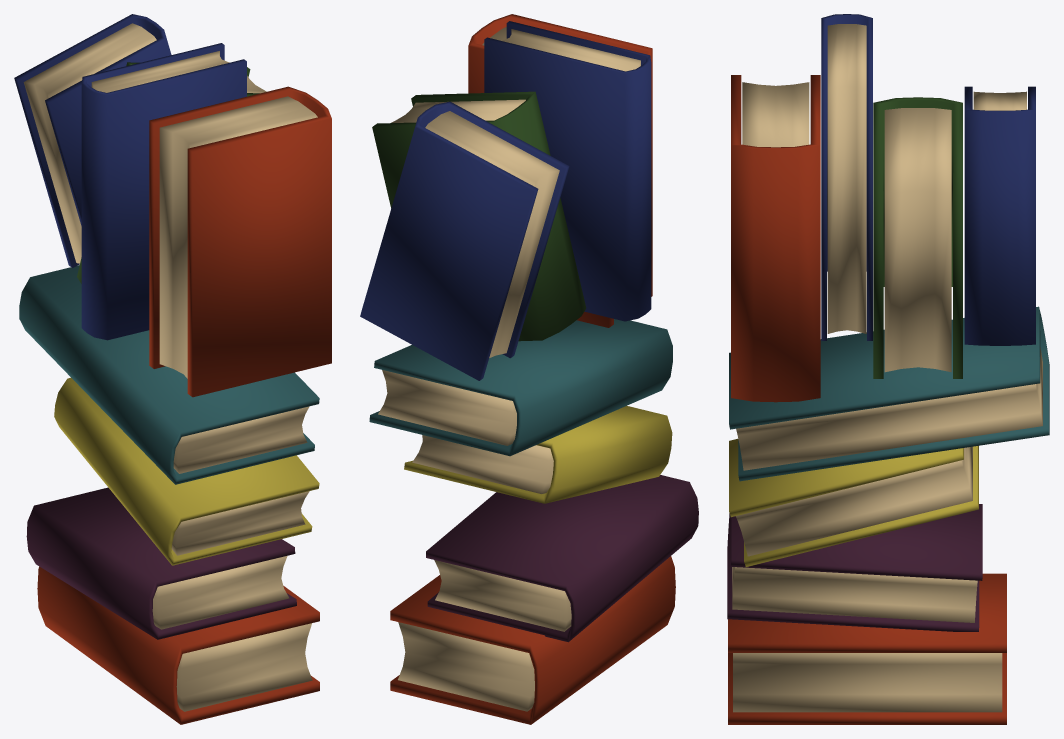
File: kitap_yigini_2.fbx
The picture shows the model from 3 angles, left to right: view 1: azimuth 30°, elevation 25°; view 2: azimuth 150°, elevation 25°; view 3: azimuth 270°, elevation 25°; orthographic projection. The views are drawn at different scales.
Parts seen in each view (by area): view 1: Cube.043, Cube.045, Cube.047, Cube.041, Cube.037, Cube.039, Cube.033, Cube.051; view 2: Cube.043, Cube.051, Cube.047, Cube.037, Cube.041, Cube.033, Cube.039, Cube.049, Cube.045; view 3: Cube.043, Cube.045, Cube.051, Cube.041, Cube.033, Cube.037, Cube.039, Cube.049, Cube.047.
Part boxes in pixels (<box>): Cube.043: <box>23,23,317,711</box>; Cube.045: <box>149,86,331,397</box>; Cube.047: <box>81,43,246,340</box>; Cube.041: <box>19,265,319,484</box>; Cube.037: <box>26,487,296,639</box>; Cube.039: <box>54,377,319,565</box>; Cube.033: <box>37,566,319,724</box>; Cube.051: <box>14,14,171,267</box>; Cube.043: <box>378,27,640,711</box>; Cube.051: <box>360,101,569,380</box>; Cube.047: <box>484,21,651,321</box>; Cube.037: <box>426,475,698,642</box>; Cube.041: <box>369,319,672,456</box>; Cube.033: <box>390,556,675,724</box>; Cube.039: <box>404,406,672,503</box>; Cube.049: <box>372,91,586,341</box>; Cube.045: <box>468,14,652,327</box>; Cube.043: <box>732,24,1042,712</box>; Cube.045: <box>731,75,820,402</box>; Cube.051: <box>964,86,1035,345</box>; Cube.041: <box>729,306,1049,481</box>; Cube.033: <box>728,573,1006,724</box>; Cube.037: <box>727,504,982,631</box>; Cube.039: <box>729,438,978,566</box>; Cube.049: <box>873,97,962,378</box>; Cube.047: <box>821,14,872,340</box>.
Size of the model in its own units: 40.18 by 108 by 50.63.
